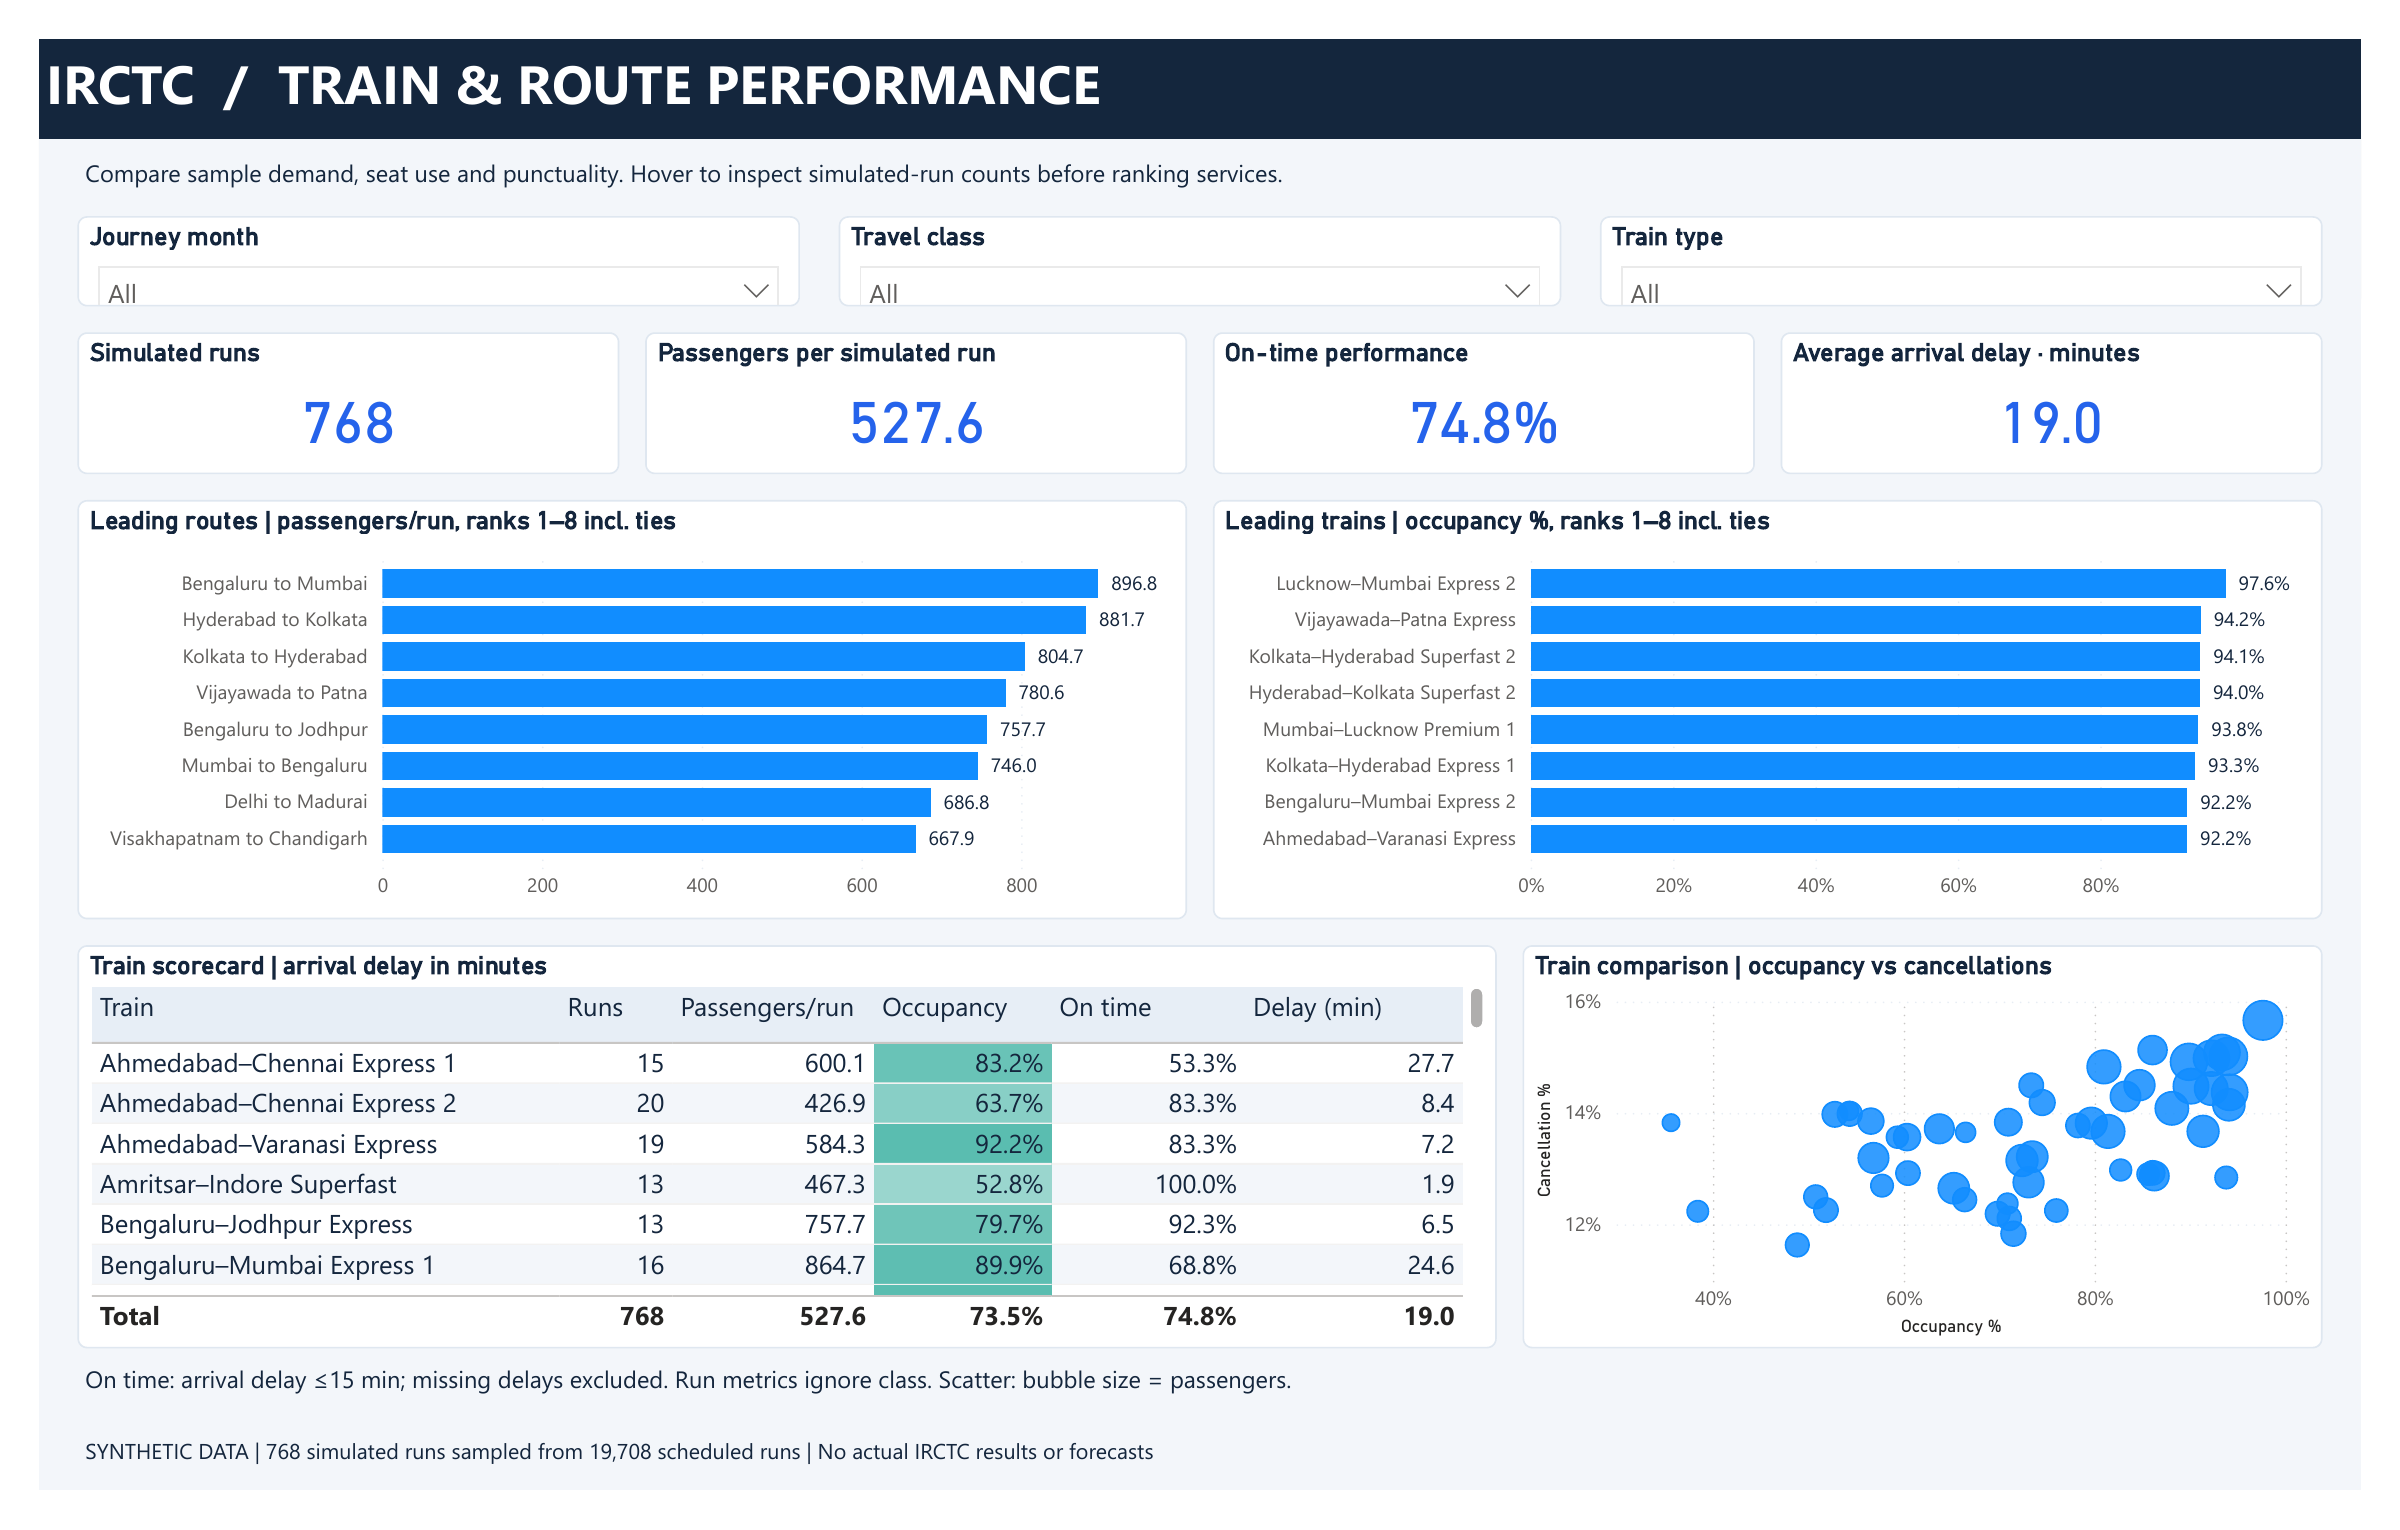

This screenshot's page, from the dashboard's own definition file:
{"tool":"tableau","page":{"name":"04 Train and route","canvas":[1400,820],"ordinal":3},"visuals":[{"type":"text","box":[0,0,1400,58]},{"type":"text","box":[22,66,1356,28]},{"type":"parameter","param":"[Parameters].[Journey month]","box":[22,102,328,53]},{"type":"parameter","param":"[Parameters].[Travel class]","box":[366,102,328,53]},{"type":"parameter","param":"[Parameters].[Train type]","box":[710,102,328,53]},{"type":"text","box":[1060,111,318,35]},{"type":"text","box":[22,168,327,27]},{"type":"text","box":[366,168,327,27]},{"type":"text","box":[710,168,327,27]},{"type":"text","box":[1054,168,327,27]},{"type":"worksheet","title":"04 KPI Simulated runs","mark":"Text","box":[22,195,327,61]},{"type":"worksheet","title":"04 KPI Passengers per run","mark":"Text","box":[366,195,327,61]},{"type":"worksheet","title":"04 KPI On-time performance","mark":"Text","box":[710,195,327,61]},{"type":"worksheet","title":"04 KPI Average delay · minutes","mark":"Text","box":[1054,195,327,61]},{"type":"parameter","param":"[Parameters].[Top N]","box":[22,272,230,39]},{"type":"text","box":[272,281,1106,28]},{"type":"worksheet","title":"04 Leading routes | passengers per run","mark":"Bar","rows":["RouteName"],"cols":["Passengers per Run"],"box":[22,316,660,205]},{"type":"worksheet","title":"04 Leading trains | occupancy","mark":"Bar","rows":["TrainName"],"cols":["Seat Occupancy"],"box":[698,316,680,205]},{"type":"worksheet","title":"04 Occupancy vs cancellations | each bubble is a train","mark":"Circle","rows":["Passenger Cancellation Rate"],"cols":["Seat Occupancy"],"box":[22,537,850,198]},{"type":"worksheet","title":"04 Monthly on-time performance","mark":"Line","rows":["On-Time Performance"],"cols":["Month"],"box":[888,537,490,198]},{"type":"text","box":[22,751,1356,27]},{"type":"text","box":[22,788,1356,23]}]}

Visuals, with their boxes on the page's 1400x820 design canvas (x1, y1, x2, y2). These are canvas units, not pixel positions in the 2400x1530 screenshot, which may show the page scaled, cropped or inside an application window:
text: (left=0, top=0, right=1400, bottom=58)
text: (left=22, top=66, right=1378, bottom=94)
parameter: (left=22, top=102, right=350, bottom=155)
parameter: (left=366, top=102, right=694, bottom=155)
parameter: (left=710, top=102, right=1038, bottom=155)
text: (left=1060, top=111, right=1378, bottom=146)
text: (left=22, top=168, right=349, bottom=195)
text: (left=366, top=168, right=693, bottom=195)
text: (left=710, top=168, right=1037, bottom=195)
text: (left=1054, top=168, right=1381, bottom=195)
"04 KPI Simulated runs" worksheet (Text marks): (left=22, top=195, right=349, bottom=256)
"04 KPI Passengers per run" worksheet (Text marks): (left=366, top=195, right=693, bottom=256)
"04 KPI On-time performance" worksheet (Text marks): (left=710, top=195, right=1037, bottom=256)
"04 KPI Average delay · minutes" worksheet (Text marks): (left=1054, top=195, right=1381, bottom=256)
parameter: (left=22, top=272, right=252, bottom=311)
text: (left=272, top=281, right=1378, bottom=309)
"04 Leading routes | passengers per run" worksheet (Bar marks): (left=22, top=316, right=682, bottom=521)
"04 Leading trains | occupancy" worksheet (Bar marks): (left=698, top=316, right=1378, bottom=521)
"04 Occupancy vs cancellations | each bubble is a train" worksheet (Circle marks): (left=22, top=537, right=872, bottom=735)
"04 Monthly on-time performance" worksheet (Line marks): (left=888, top=537, right=1378, bottom=735)
text: (left=22, top=751, right=1378, bottom=778)
text: (left=22, top=788, right=1378, bottom=811)
